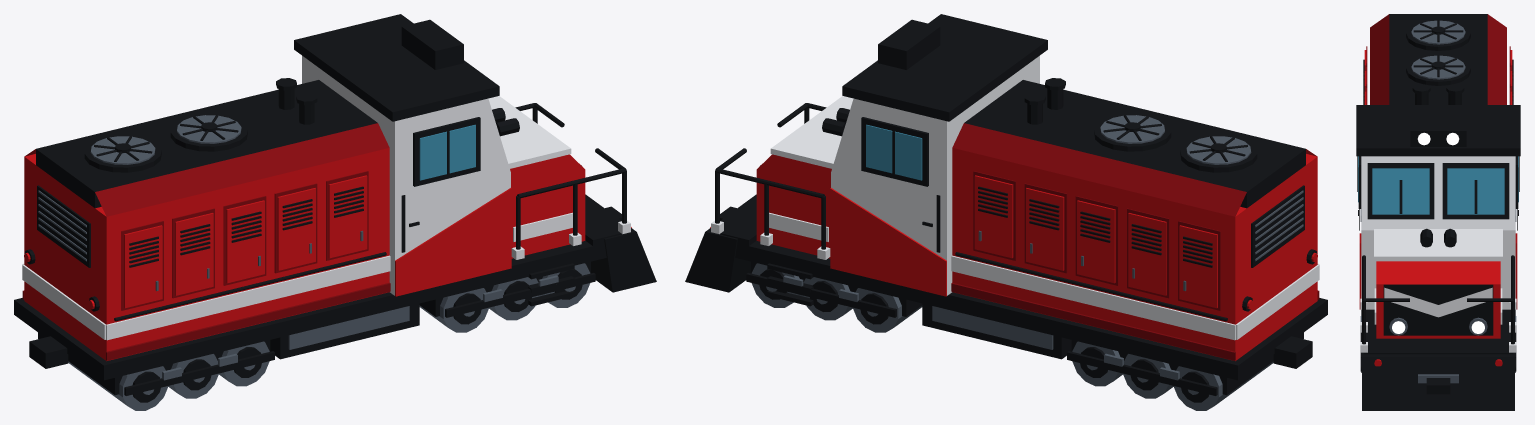
File: Locomotive_RedWhite.fbx
3 renders of one model, left to right at view 1: azimuth 30°, elevation 25°; view 2: azimuth 150°, elevation 25°; view 3: azimuth 270°, elevation 25°, orthographic. The views are drawn at different scales.
Parts seen in each view (by area): view 1: Locomotive_RedWhite; view 2: Locomotive_RedWhite; view 3: Locomotive_RedWhite.
Boxes of the visible parts, x1,y1,x2,y2 form: Locomotive_RedWhite: (14, 14, 656, 410); Locomotive_RedWhite: (685, 14, 1327, 410); Locomotive_RedWhite: (1356, 14, 1520, 410).
Bounding box in the file's own units: 5.34 × 2.32 × 1.57.
